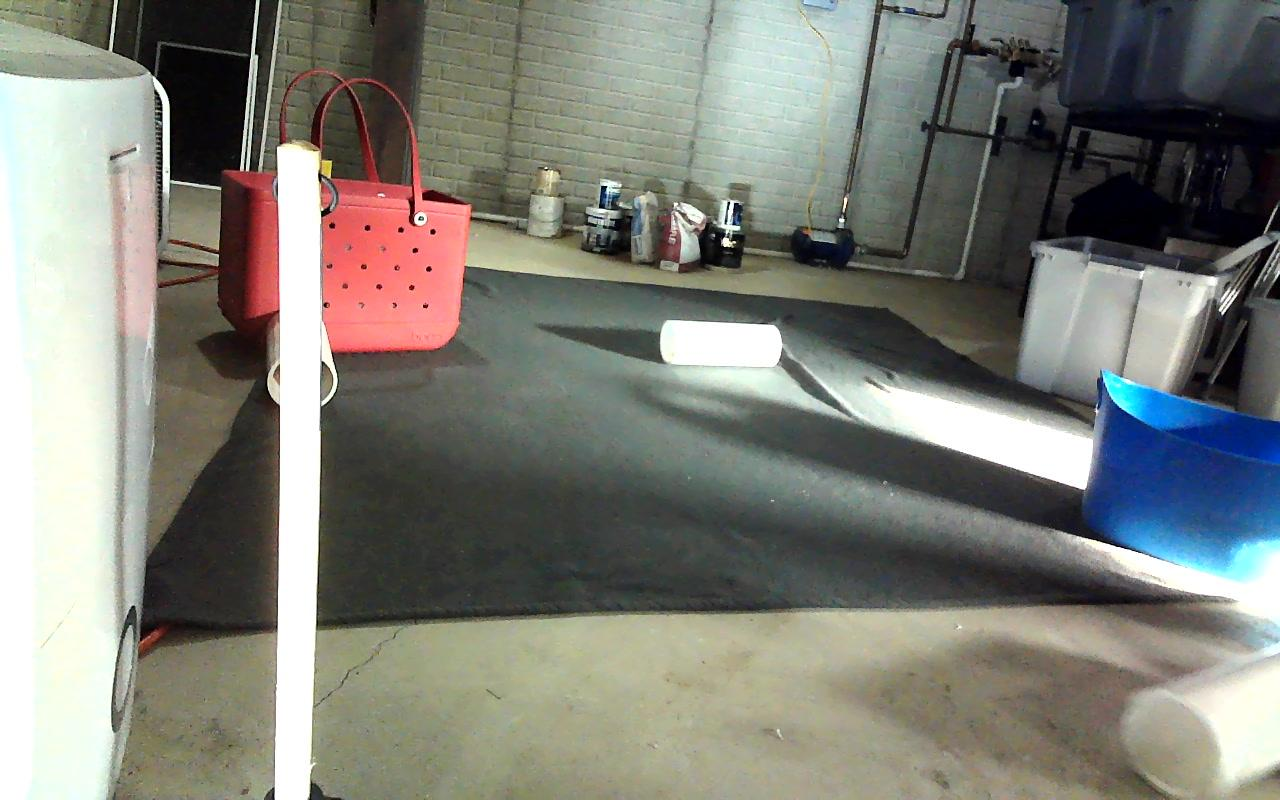coral: (1120, 659, 1279, 798), (267, 310, 336, 407), (660, 320, 781, 367)
